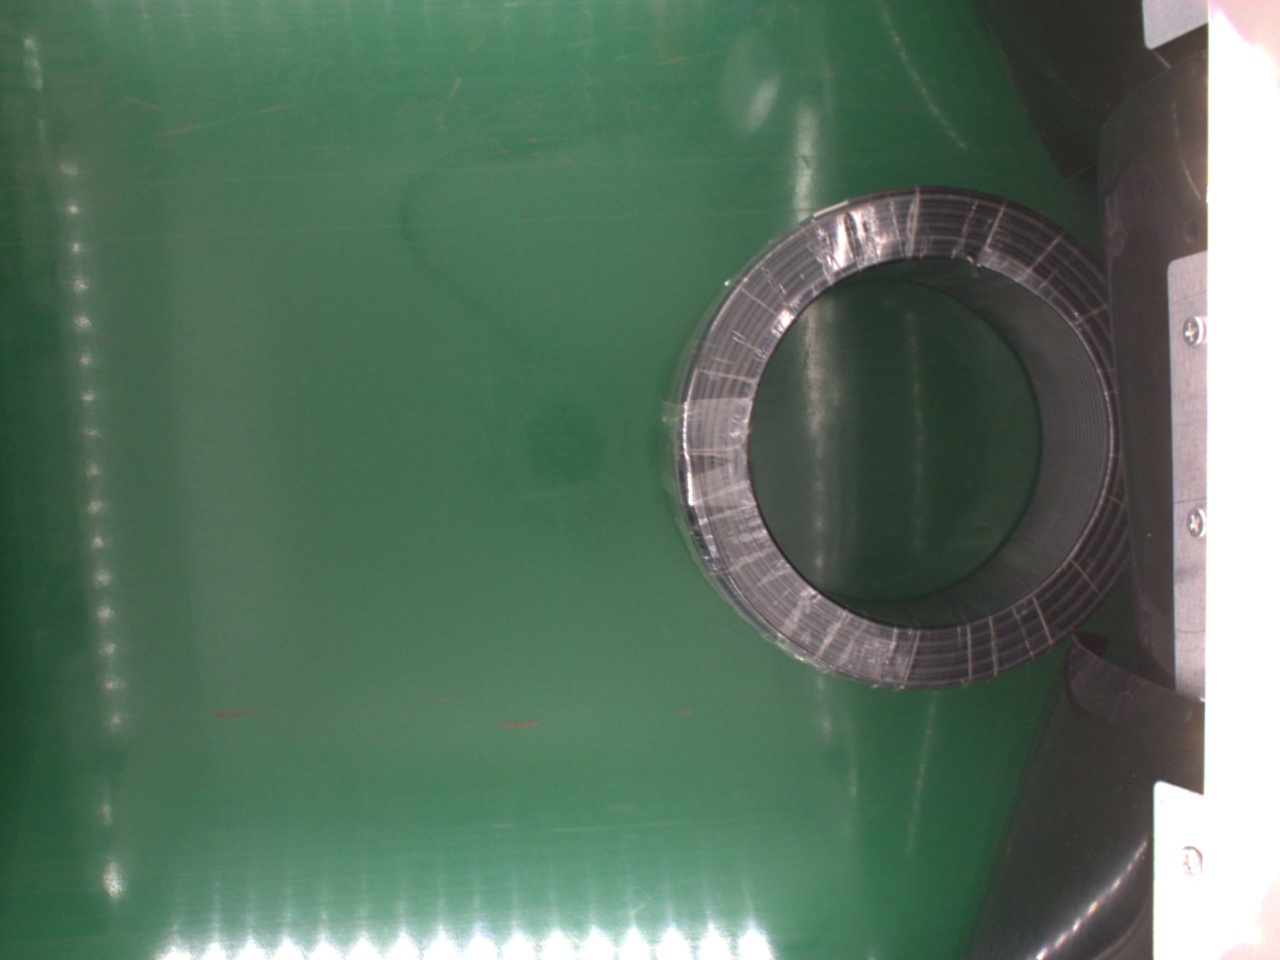black: (675, 188, 1121, 693)
